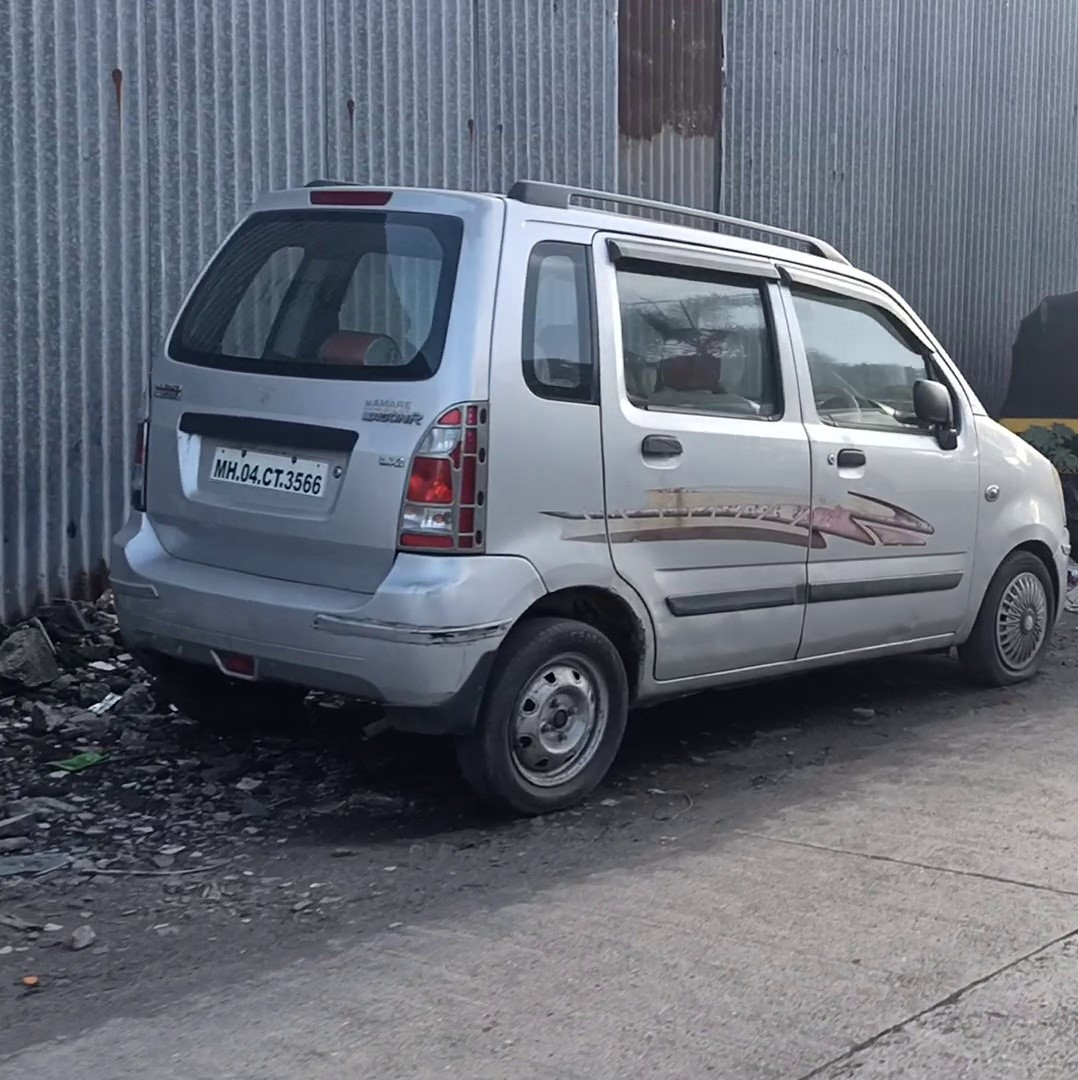MH04CT3566: (208, 444, 326, 497)
